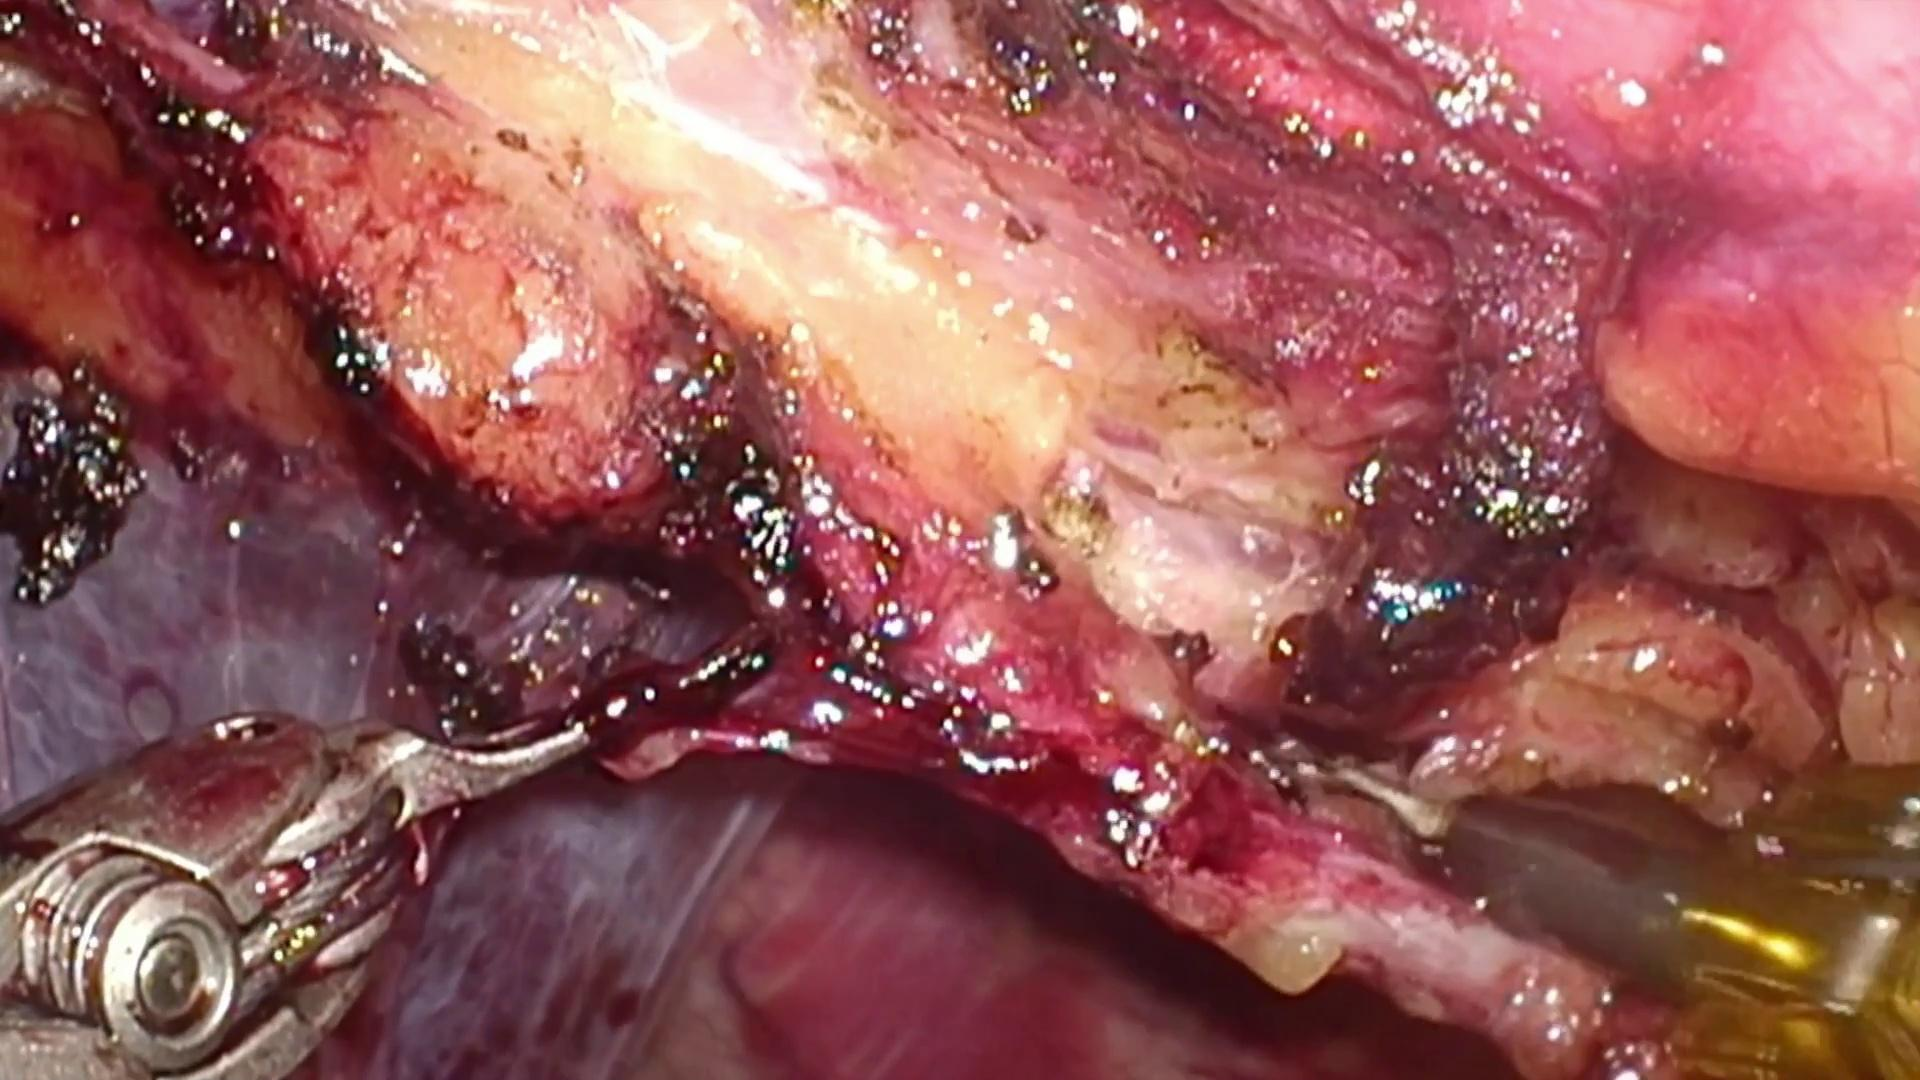Cautery_Spatula: (1278, 738, 1727, 1007)
Debakey: (313, 678, 651, 839)
